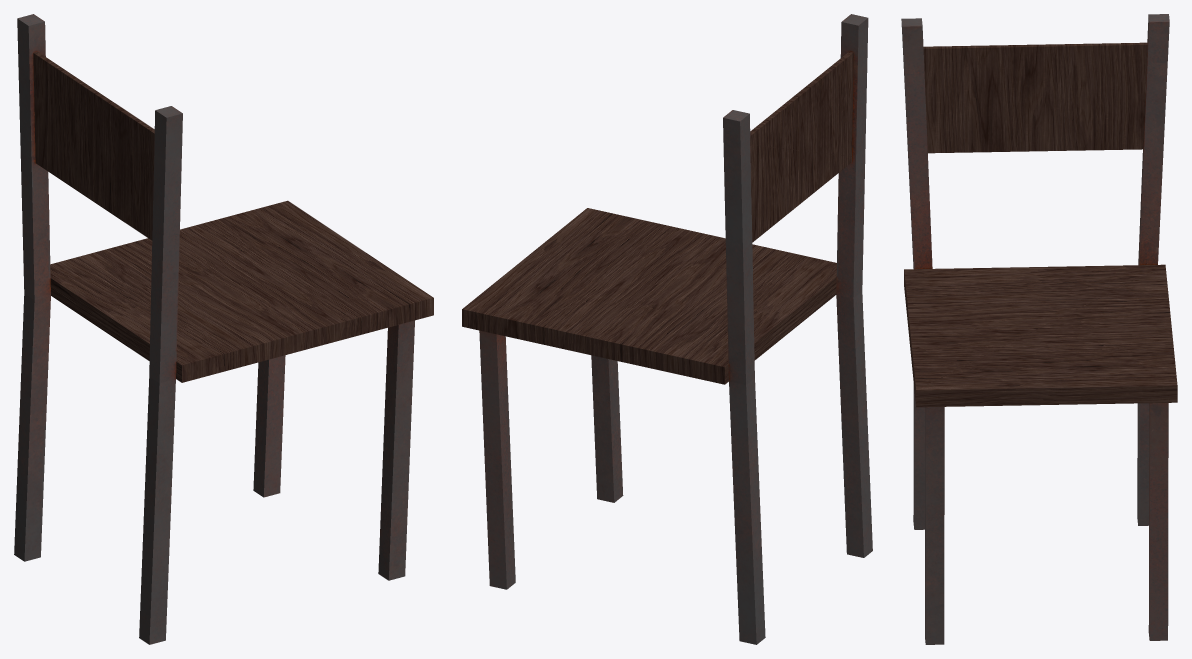
The model's file is wood chair.fbx.
3 views of the same model, side by side, from view 1: azimuth 30°, elevation 25°; view 2: azimuth 150°, elevation 25°; view 3: azimuth 270°, elevation 25° (orthographic). The views are drawn at different scales.
Parts seen in each view (by area): view 1: wood chair; view 2: wood chair; view 3: wood chair.
Boxes of the visible parts, x1,y1,x2,y2 form: wood chair: (14,14,433,644); wood chair: (462,14,872,644); wood chair: (901,14,1177,644).
Bounding box in the file's own units: 0.5253 × 0.9004 × 0.4432.
